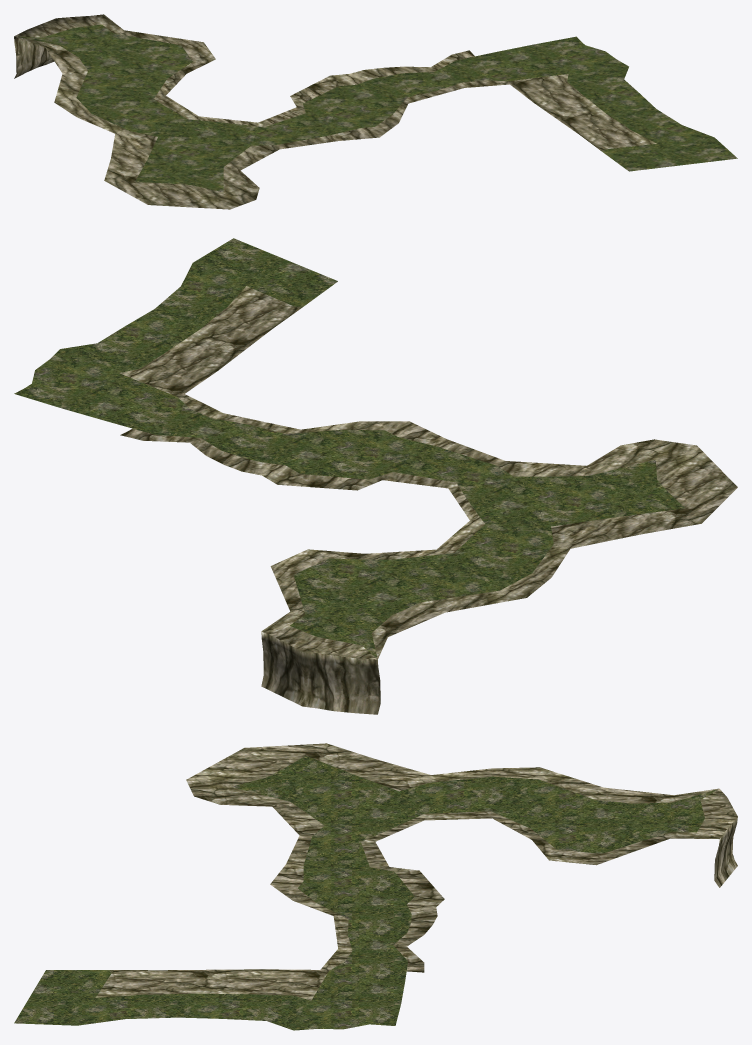
The model's file is CB_NEWPLAYSURFACE_CB_PLAYSURFACE14.fbx.
The picture shows the model from 3 angles, top to bottom: view 1: azimuth 30°, elevation 25°; view 2: azimuth 150°, elevation 25°; view 3: azimuth 270°, elevation 25°; orthographic projection. The views are drawn at different scales.
Parts seen in each view (by area): view 1: CB_NEWPLAYSURFACE_CB_PLAYSURFACE14; view 2: CB_NEWPLAYSURFACE_CB_PLAYSURFACE14; view 3: CB_NEWPLAYSURFACE_CB_PLAYSURFACE14.
Part boxes in pixels (x1,y1,x2,y2): CB_NEWPLAYSURFACE_CB_PLAYSURFACE14: [14, 14, 737, 209]; CB_NEWPLAYSURFACE_CB_PLAYSURFACE14: [14, 238, 737, 714]; CB_NEWPLAYSURFACE_CB_PLAYSURFACE14: [14, 743, 737, 1030].
Bounding box in the file's own units: 501725 × 40602 × 534661.
3 materials, 3 textured.
